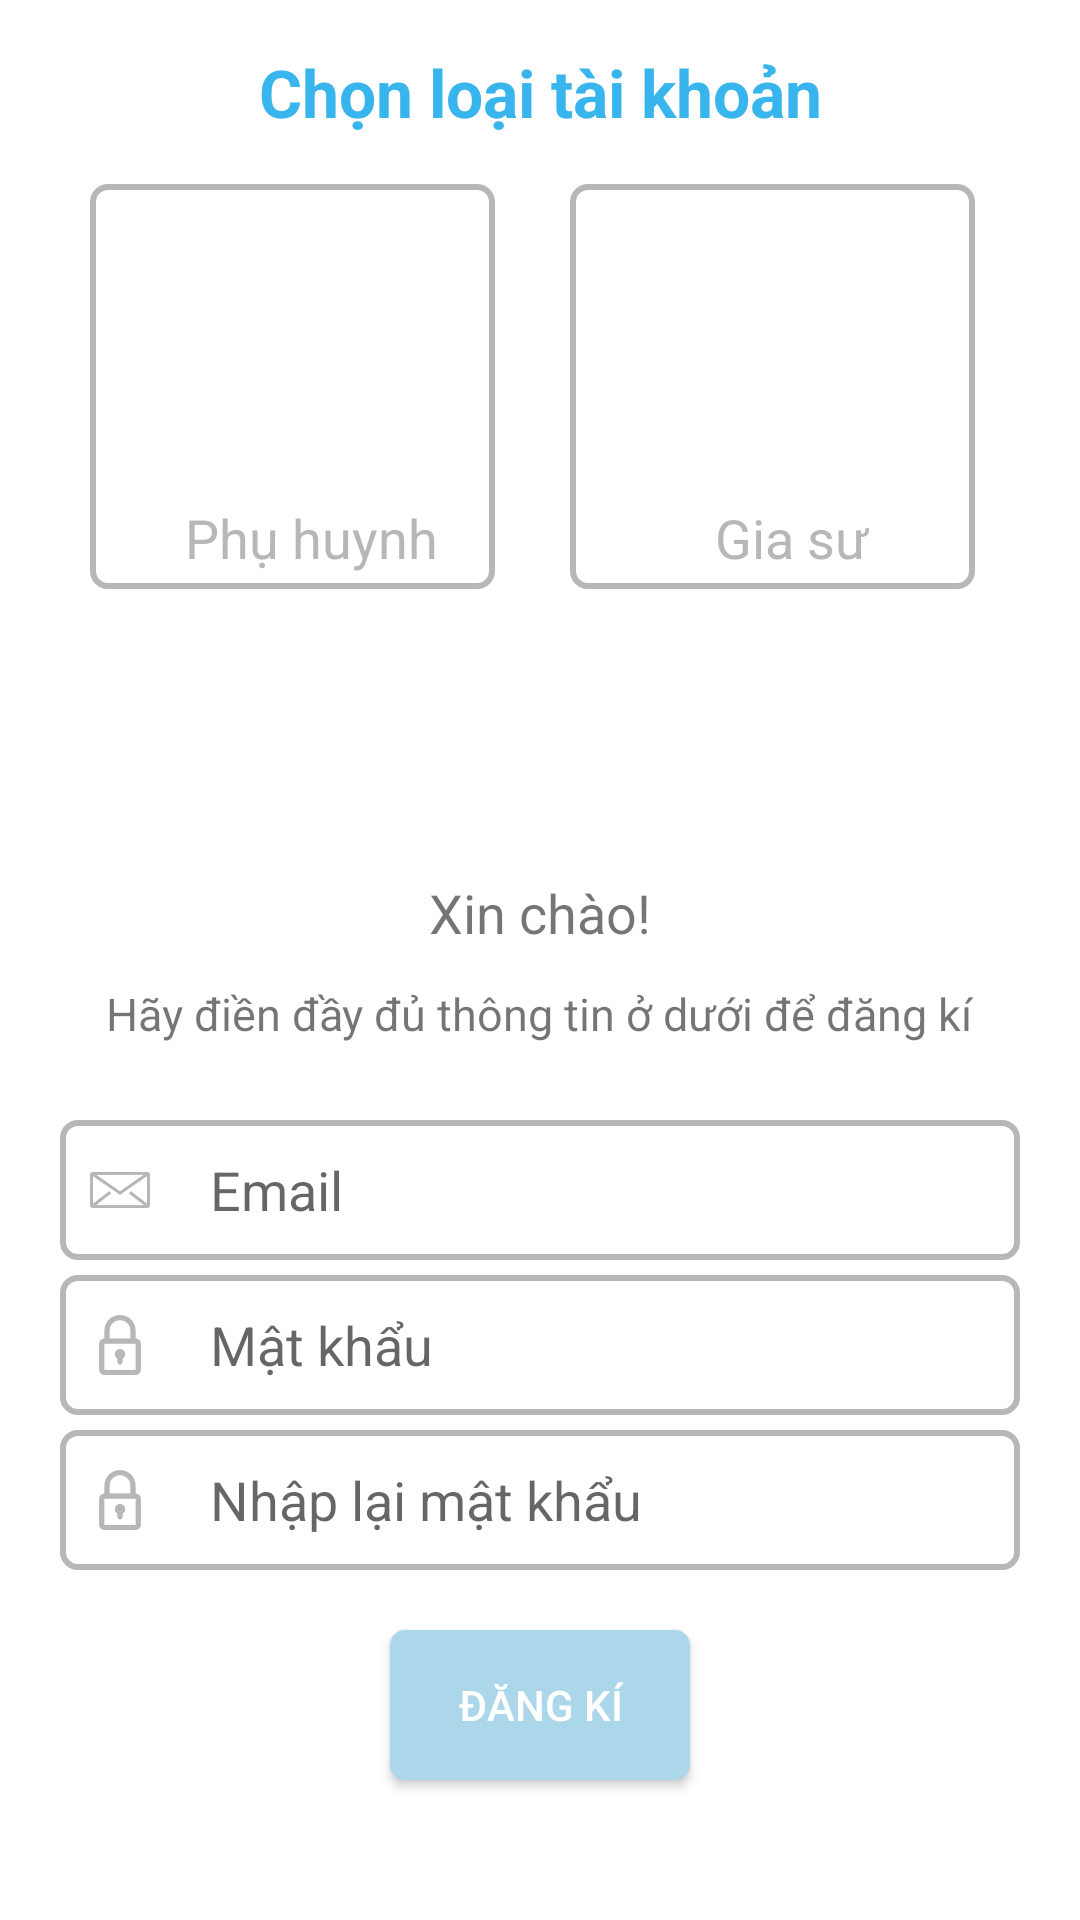

Icon click points for this 1080x1920 phone screenshot, format (x,y):
envelope: (120,1190)
lock: (120,1345), (120,1500)
